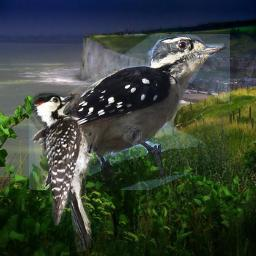Woodpecker: (29, 34, 230, 190), (26, 91, 102, 252)
